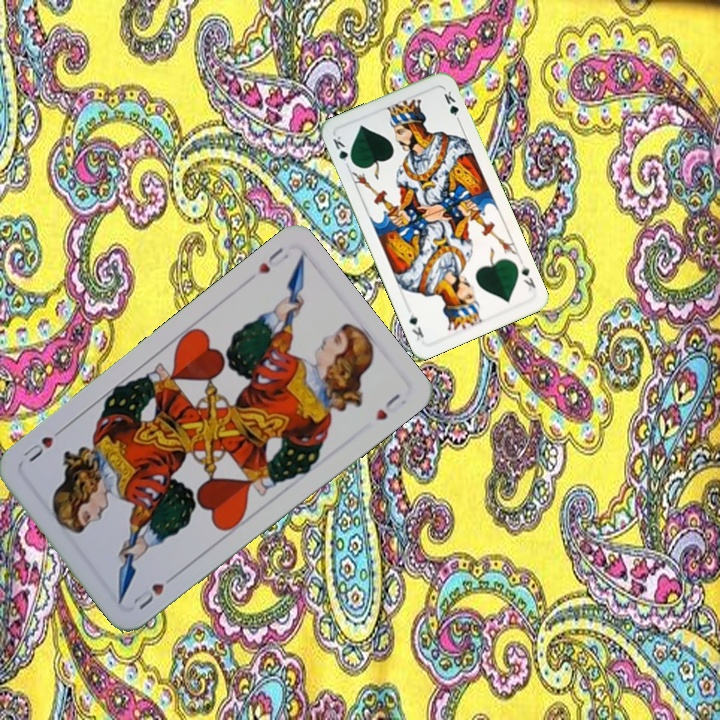GK: (329, 132, 356, 168), (517, 260, 538, 293)
HU: (129, 569, 178, 612), (253, 243, 292, 277)
